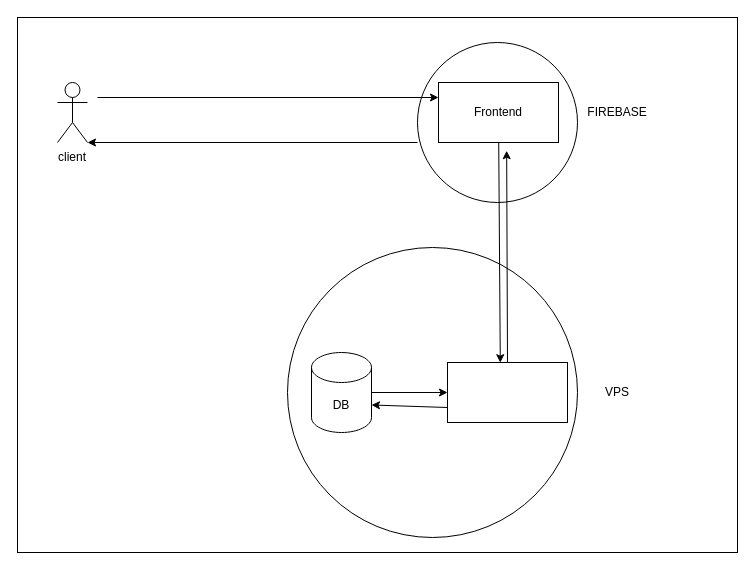
This 755x570 diagram has some shape labels left out. Here are the shapes that lost their labels. From the top down, the centre of each, then its label:
At [72,112]: "Actor".
At [507,392]: "Backend".
